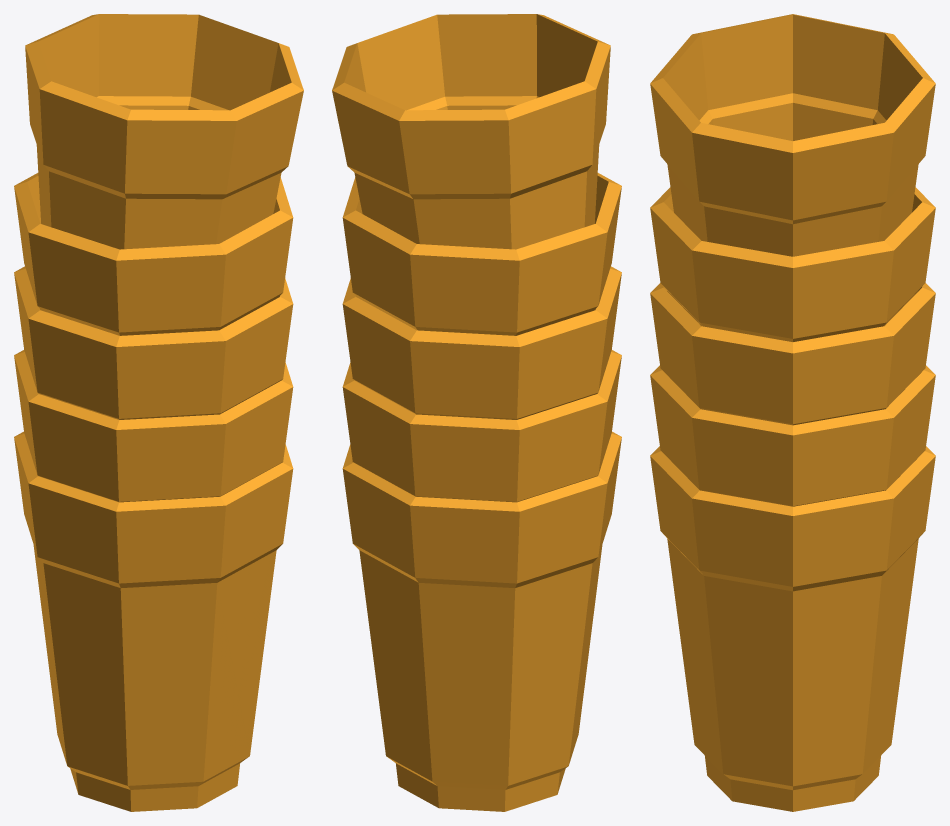
The model's file is SM_Cup_Plastic_Stack.fbx.
The picture shows the model from 3 angles, left to right: view 1: azimuth 30°, elevation 25°; view 2: azimuth 150°, elevation 25°; view 3: azimuth 270°, elevation 25°; orthographic projection.
Visible parts, largest first — view 1: cup-plastic-stack; view 2: cup-plastic-stack; view 3: cup-plastic-stack.
Part boxes in pixels (box(x1,y1,x2,y2)): cup-plastic-stack: box(14, 14, 303, 811); cup-plastic-stack: box(332, 14, 621, 811); cup-plastic-stack: box(650, 14, 935, 811).
Size of the model in its own units: 0.1161 by 0.3062 by 0.1114.
